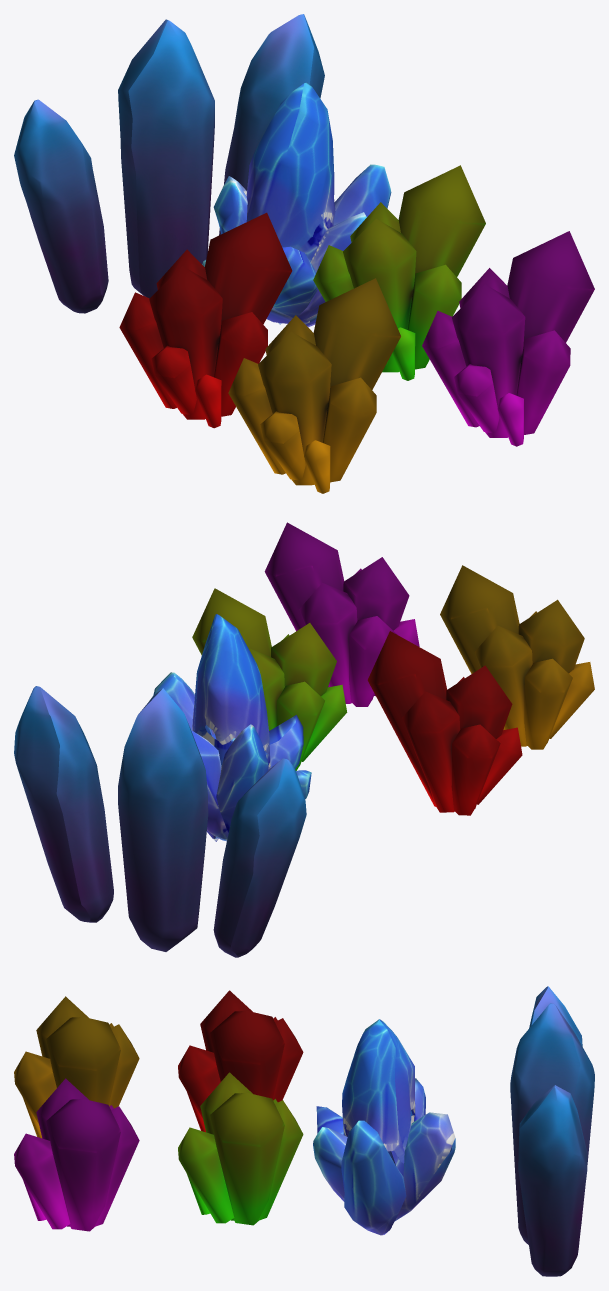
File: Crystals.fbx
3 renders of one model, top to bottom at view 1: azimuth 30°, elevation 25°; view 2: azimuth 150°, elevation 25°; view 3: azimuth 270°, elevation 25°, orthographic. The views are drawn at different scales.
Parts seen in each view (by area): view 1: Crystal1-Orange, Crystal1-Purple, Crystal1-Red, Crystal3-1, Crystal2, Crystal1-Green, Crystal3-3, Crystal3-2; view 2: Crystal3-1, Crystal1-Red, Crystal1-Orange, Crystal3-2, Crystal2, Crystal1-Purple, Crystal3-3, Crystal1-Green; view 3: Crystal2, Crystal1-Purple, Crystal1-Green, Crystal3-2, Crystal1-Red, Crystal1-Orange, Crystal3-1, Crystal3-3.
Part boxes in pixels (box(x1,y1,x2,y2)): Crystal1-Orange: box(228, 278, 400, 493); Crystal1-Purple: box(422, 231, 594, 446); Crystal1-Red: box(119, 212, 292, 428); Crystal3-1: box(118, 19, 214, 298); Crystal2: box(202, 82, 391, 327); Crystal1-Green: box(313, 165, 485, 380); Crystal3-3: box(14, 99, 108, 313); Crystal3-2: box(219, 14, 324, 235); Crystal3-1: box(118, 688, 208, 951); Crystal1-Red: box(367, 631, 522, 815); Crystal1-Orange: box(440, 565, 594, 749); Crystal3-2: box(14, 686, 113, 922); Crystal2: box(153, 614, 311, 841); Crystal1-Purple: box(264, 522, 419, 706); Crystal3-3: box(213, 758, 306, 957); Crystal1-Green: box(192, 588, 347, 770); Crystal2: box(313, 1019, 455, 1235); Crystal1-Purple: box(14, 1078, 139, 1231); Crystal1-Green: box(178, 1072, 303, 1225); Crystal3-2: box(518, 1085, 587, 1276); Crystal1-Red: box(178, 990, 303, 1132); Crystal1-Orange: box(14, 996, 139, 1138); Crystal3-1: box(510, 1003, 594, 1244); Crystal3-3: box(529, 986, 582, 1046).
Size of the model in its own units: 264 by 200 by 425.
Materials: 6 (6 with a texture image).
